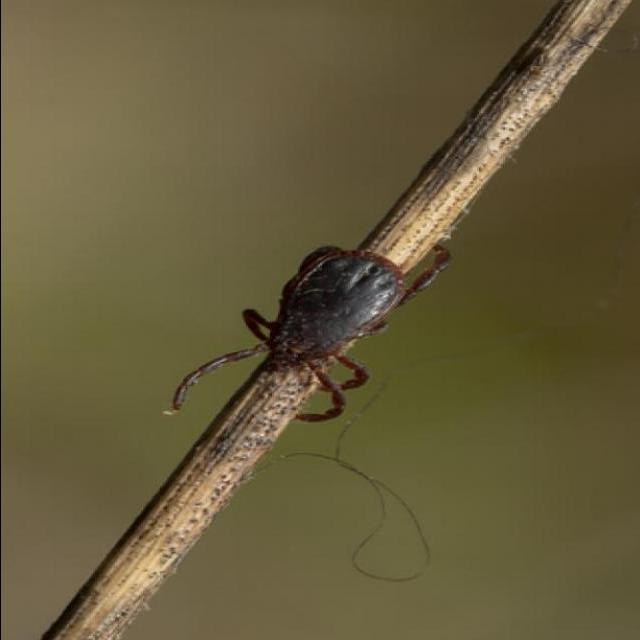Rhipicephalus Sanguineus-M: (170, 244, 450, 422)
